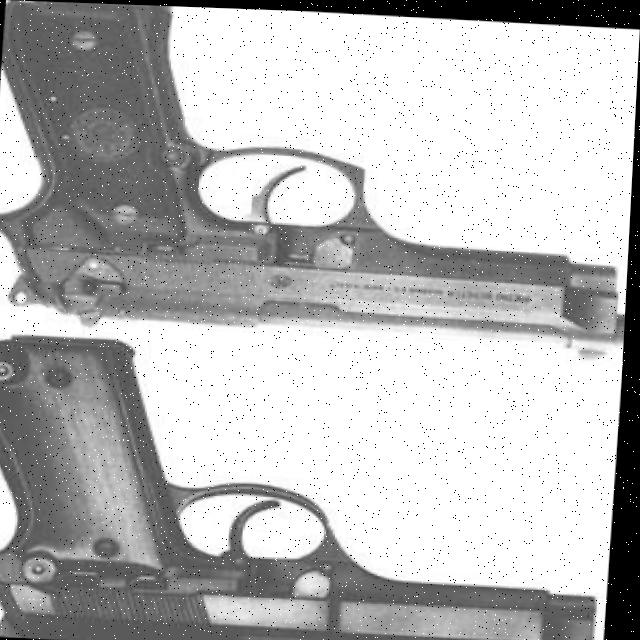pistol: (0, 0, 640, 362), (0, 334, 625, 640)
